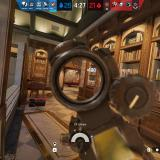Friend_label: (92, 72, 103, 79)
